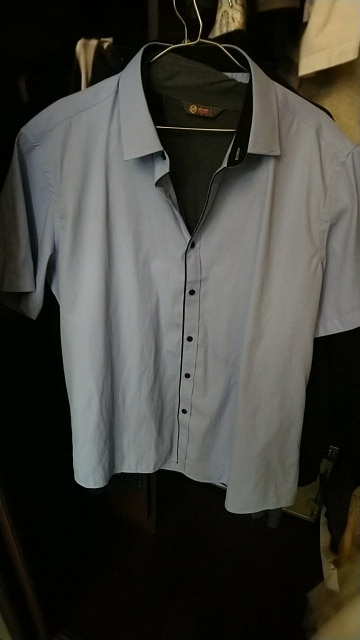shirts: (13, 37, 355, 520)
